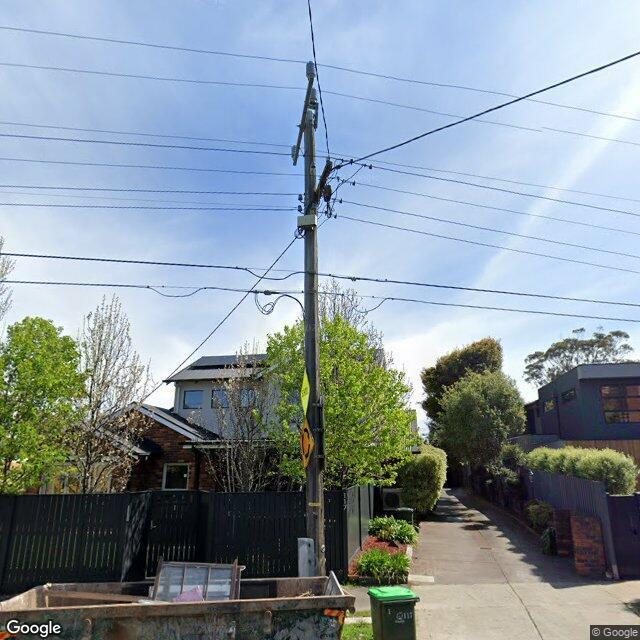HV-transmission: (291, 61, 318, 160)
crossarm: (294, 77, 314, 166), (315, 160, 332, 206)
timber-pole: (304, 121, 326, 576)
